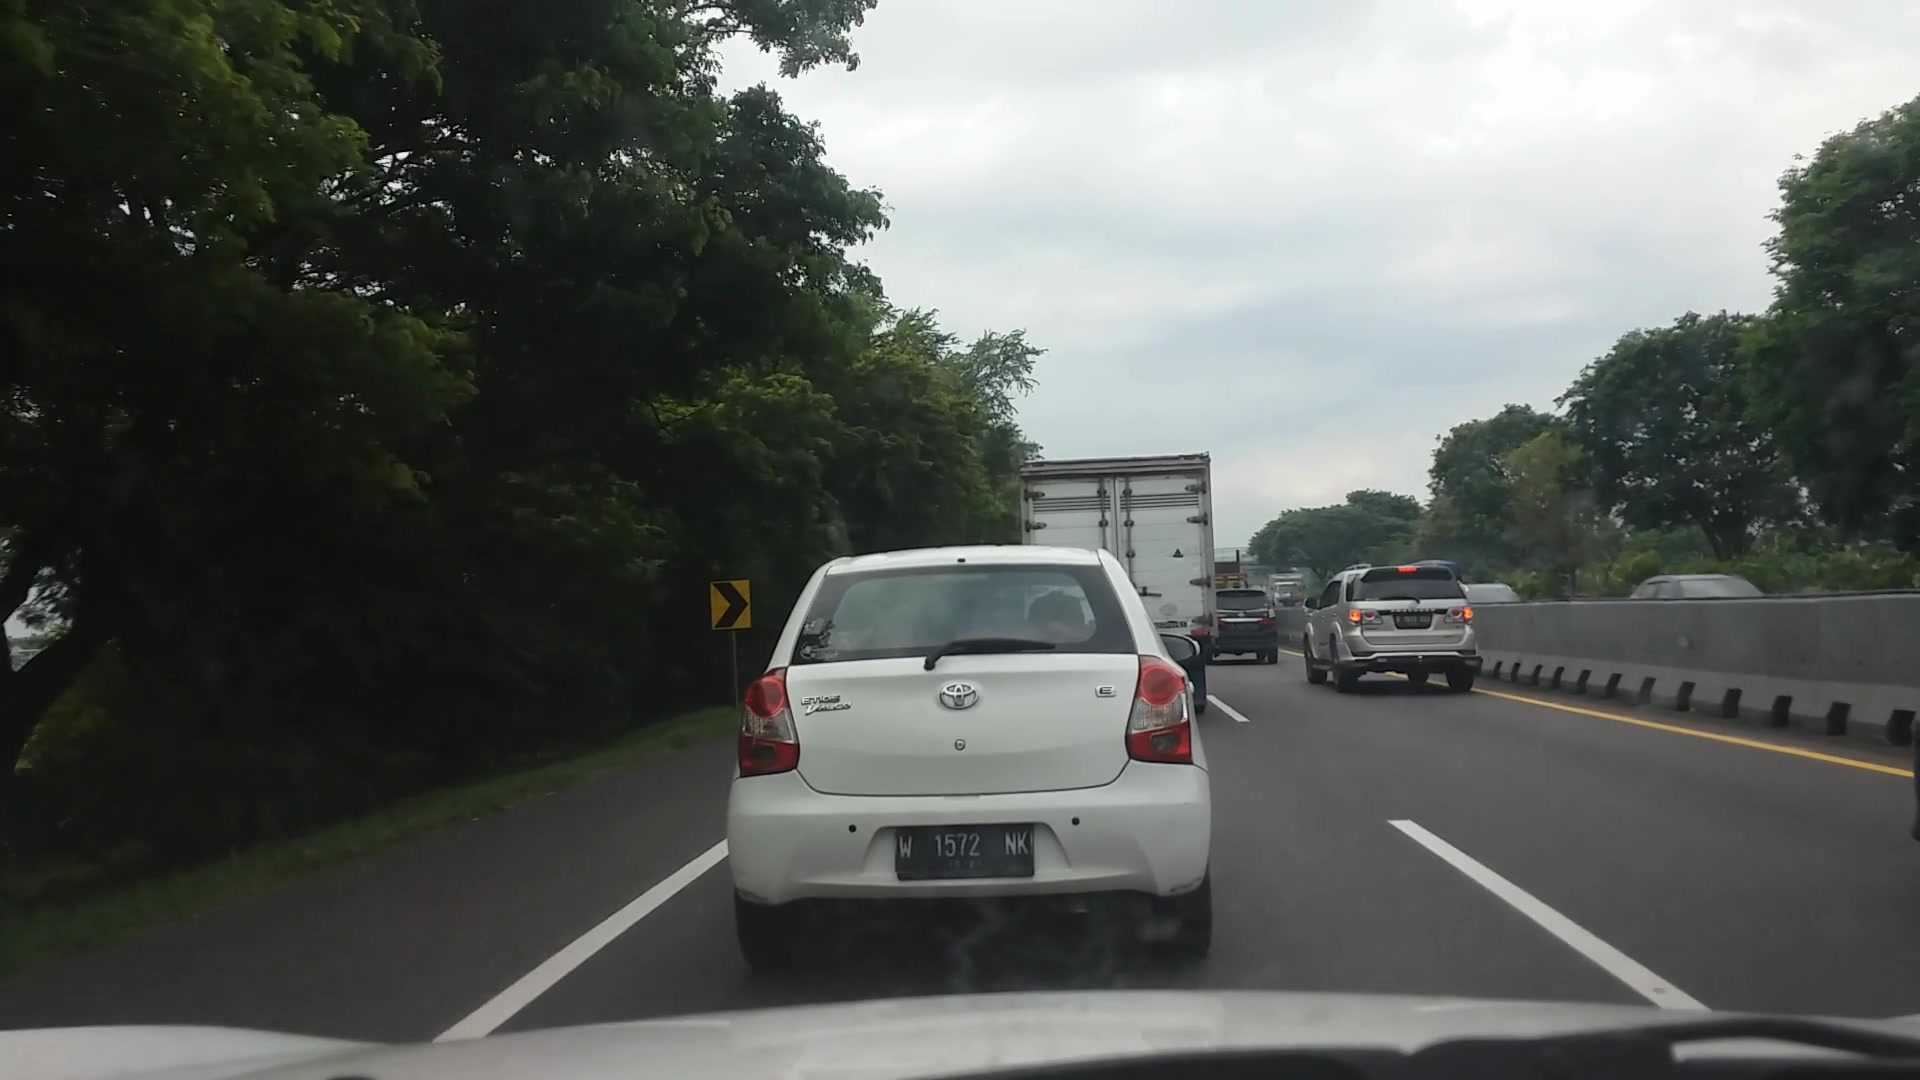plate_positive: (895, 822, 1034, 881)
